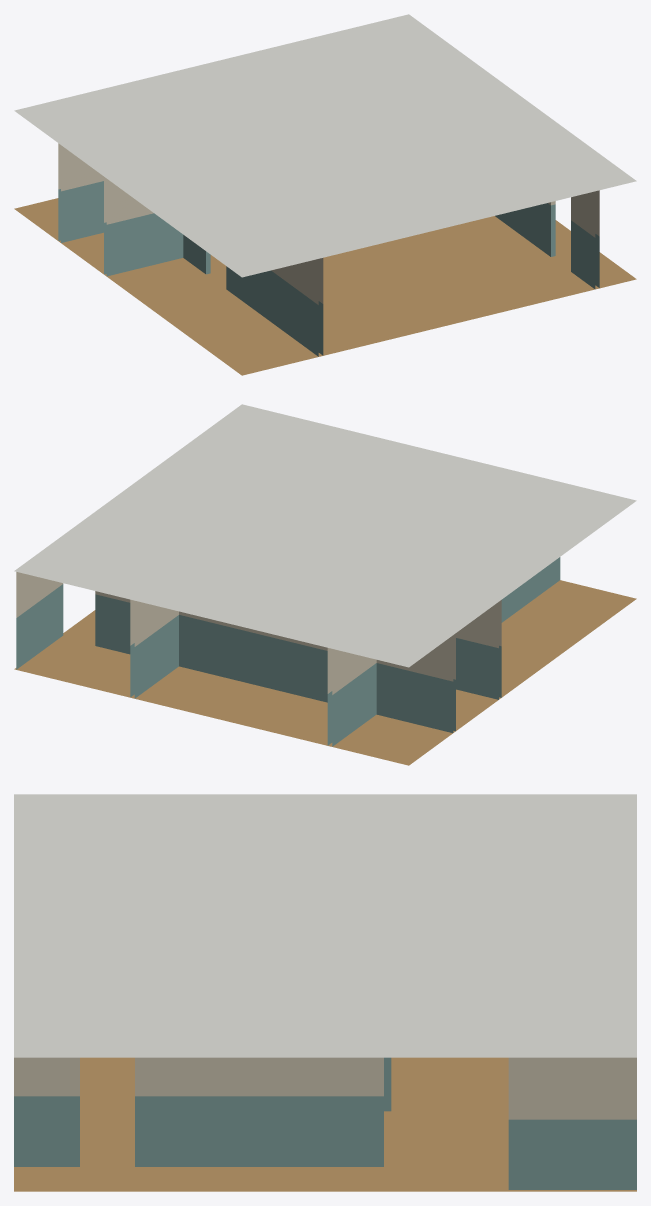
The model's file is chunk_3_2.glb.
The picture shows the model from 3 angles, top to bottom: view 1: azimuth 30°, elevation 25°; view 2: azimuth 150°, elevation 25°; view 3: azimuth 270°, elevation 25°; orthographic projection. The views are drawn at different scales.
Visible parts, largest first — view 1: chunk_3_2; view 2: chunk_3_2; view 3: chunk_3_2.
Part boxes in pixels (left/top/right/bottom): chunk_3_2: left=14, top=14, right=636, bottom=375; chunk_3_2: left=14, top=404, right=636, bottom=765; chunk_3_2: left=14, top=794, right=636, bottom=1191.
Bounding box in the file's own units: 12 × 2.85 × 12.
